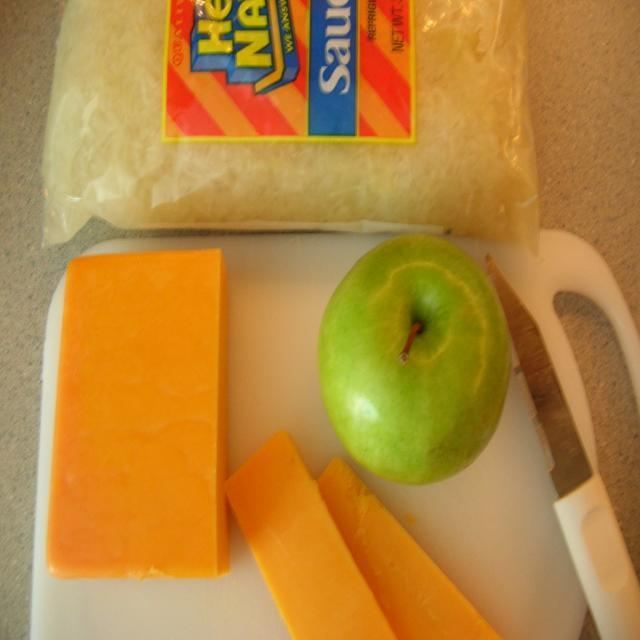Apple: (311, 239, 511, 506)
